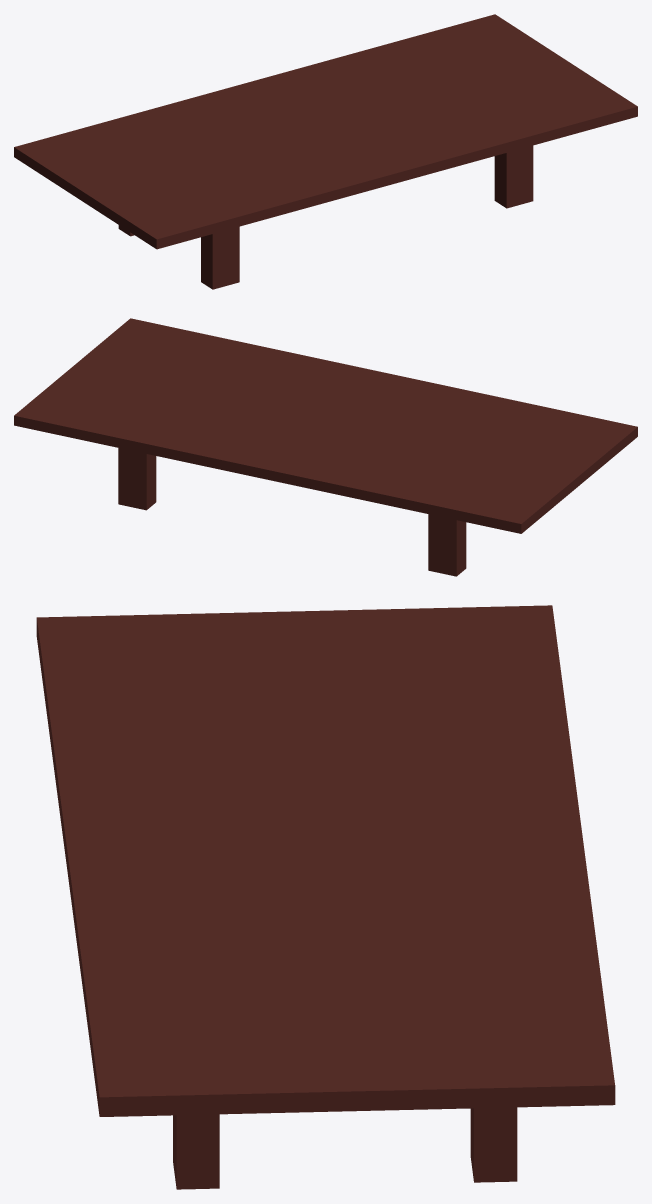
File: vert.044_lev3.glb
The picture shows the model from 3 angles, top to bottom: view 1: azimuth 30°, elevation 25°; view 2: azimuth 150°, elevation 25°; view 3: azimuth 270°, elevation 25°; orthographic projection. The views are drawn at different scales.
Parts seen in each view (by area): view 1: vert.044_lev3; view 2: vert.044_lev3; view 3: vert.044_lev3.
Part boxes in pixels (bbox=[...]): vert.044_lev3: bbox=[14, 14, 637, 289]; vert.044_lev3: bbox=[14, 318, 637, 576]; vert.044_lev3: bbox=[36, 605, 615, 1189].
Bounding box in the file's own units: 7.73 × 1.28 × 3.84.
